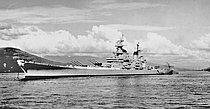MIL_Ship: (17, 33, 174, 79)
